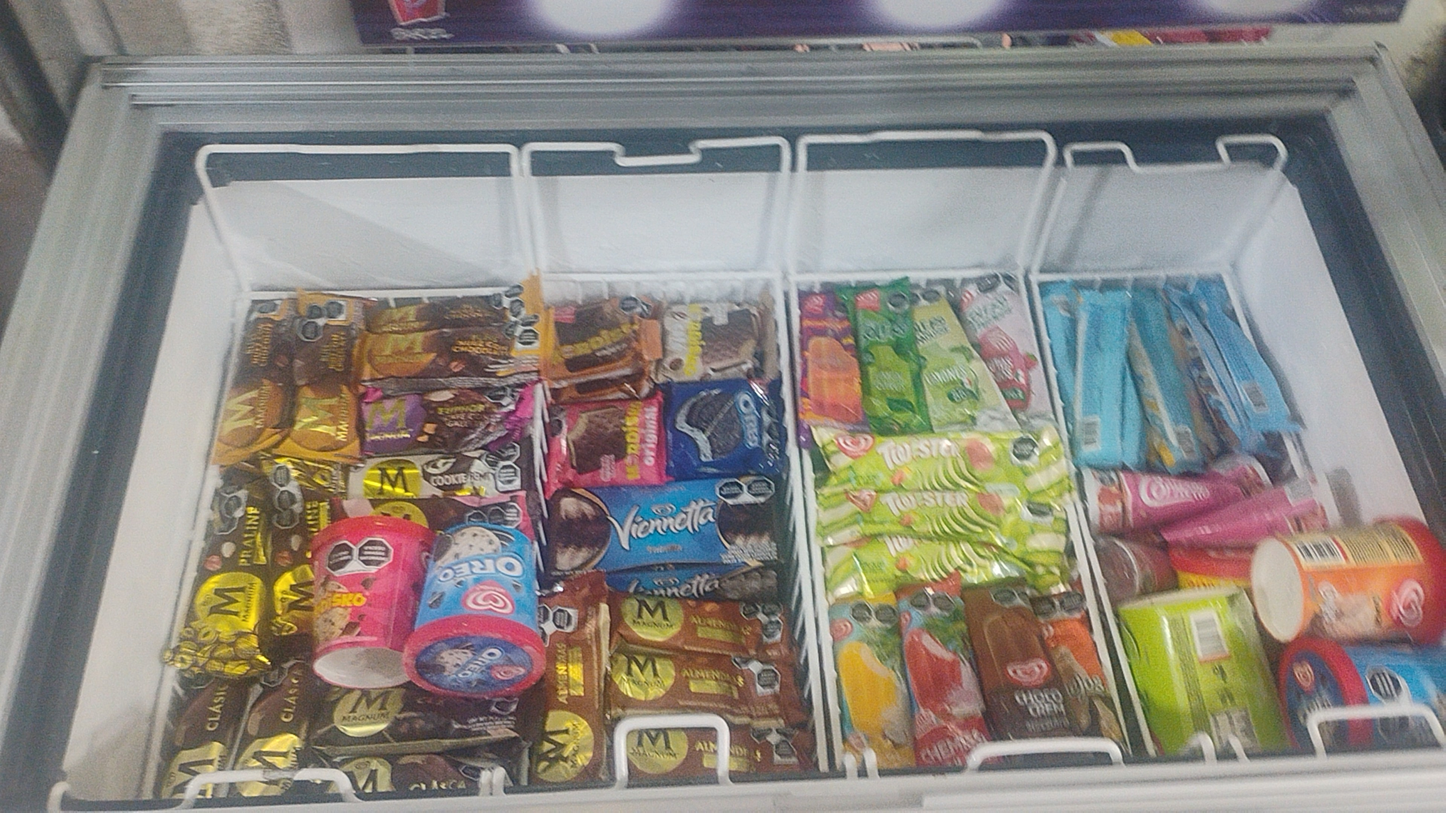Magnum clasica: (227, 652, 321, 789), (310, 678, 520, 737), (136, 670, 229, 797), (300, 745, 511, 800)
Oreo Mordizco: (675, 388, 778, 474)
